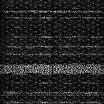lte: (1, 64, 104, 74), (1, 10, 104, 12), (1, 45, 104, 47), (1, 53, 104, 55)
